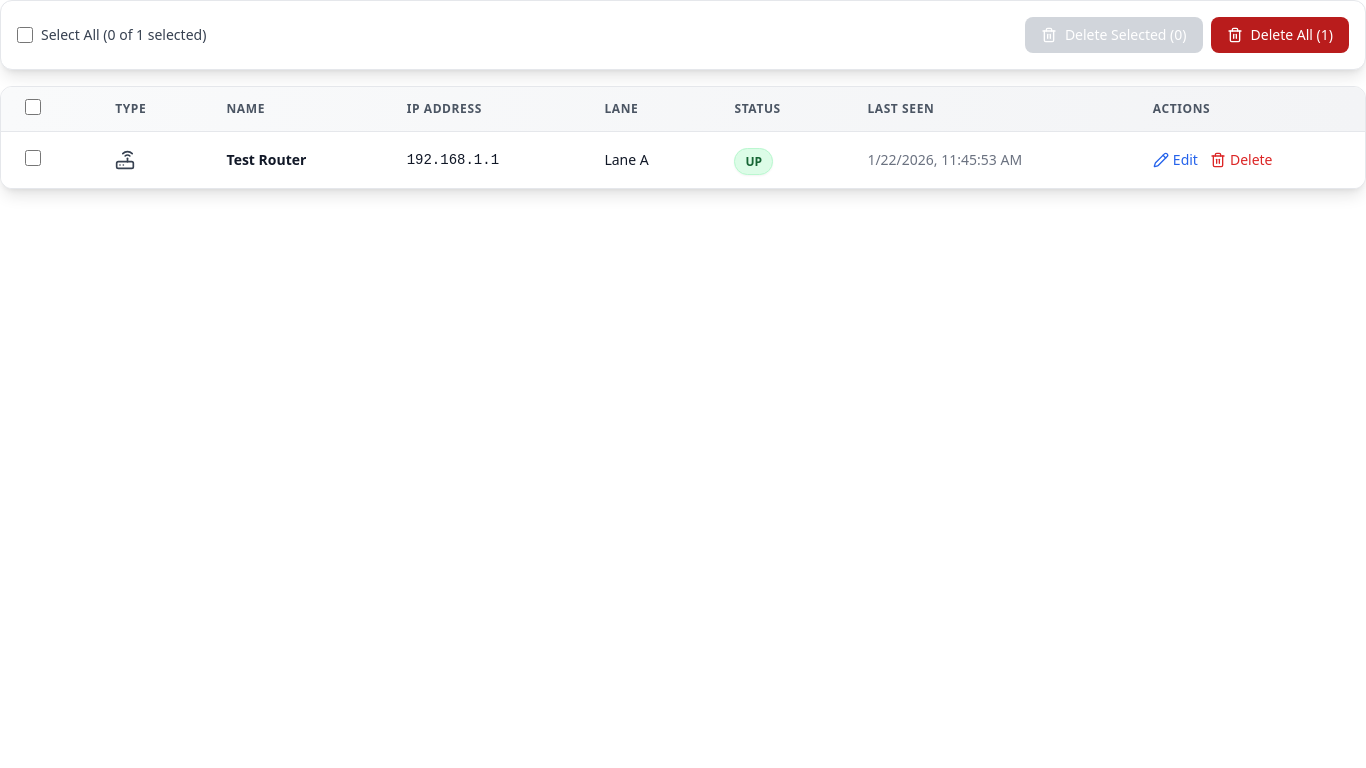
Test: Edit and Delete Button Visibility › should close edit modal when cancel is clicked
Step 1. Click the button "Edit" → (1175, 160), box [1153, 150, 1198, 170]
(page scrolled)
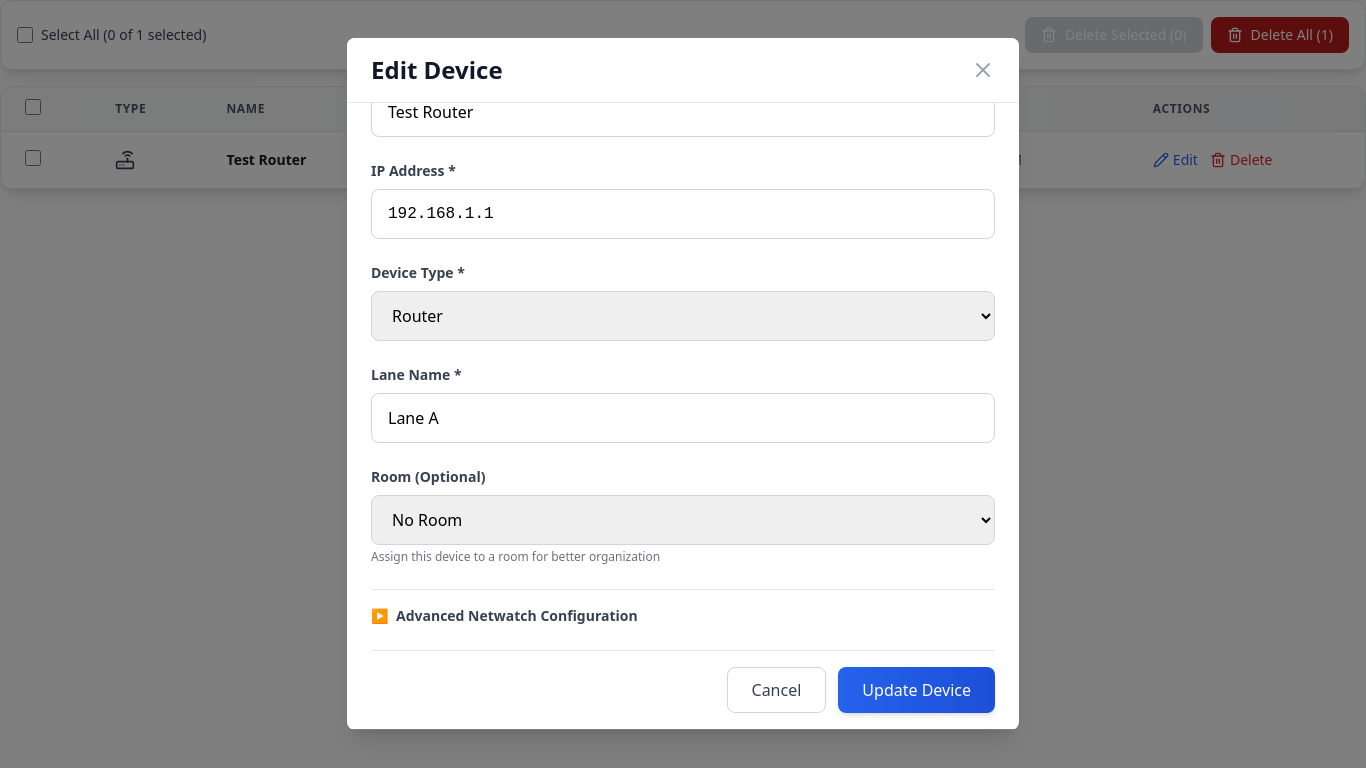
Now the heading "Edit Device" is shown, box [371, 54, 503, 86]
Step 2. Click the button "Cancel" → (776, 690), box [726, 667, 826, 713]
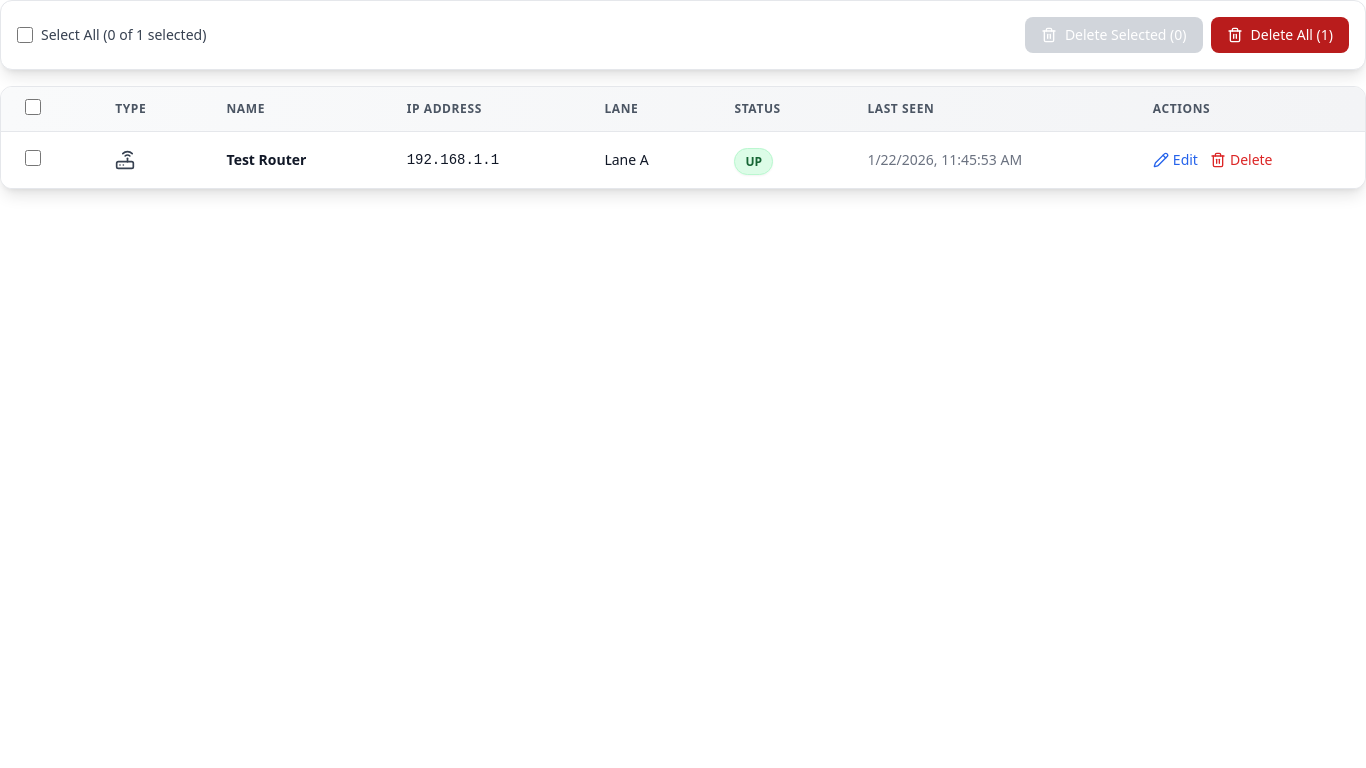
Now the heading "Edit Device" is gone
